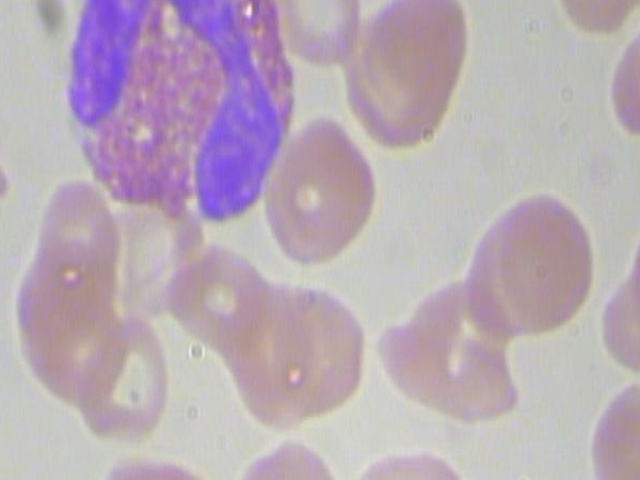RBC: (258, 112, 378, 264), (493, 181, 601, 332), (359, 0, 485, 118), (76, 318, 167, 438), (92, 428, 229, 480), (341, 428, 471, 480), (223, 428, 347, 480), (540, 0, 640, 39)
WBC: (54, 0, 303, 236)
